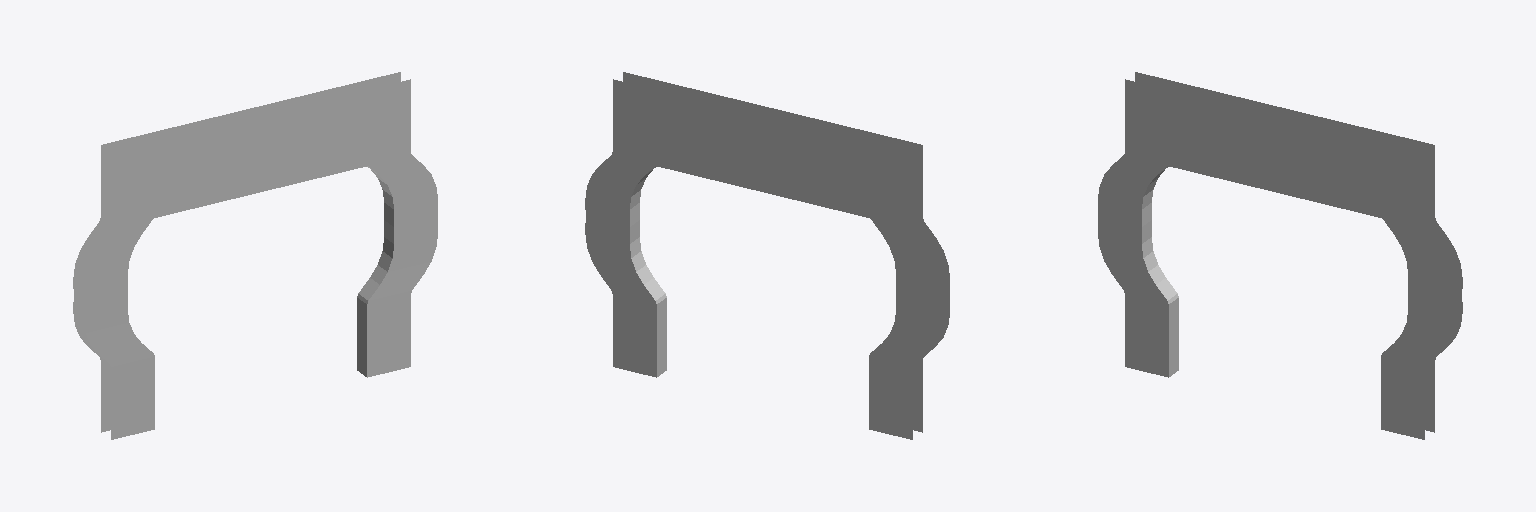
Rendered from separador_pasillos.obj.
3 views of the same model, side by side, from view 1: azimuth 30°, elevation 25°; view 2: azimuth 150°, elevation 25°; view 3: azimuth 330°, elevation 25° (orthographic).
Parts seen in each view (by area): view 1: textureEditorIsolateSelectSet connector_01 UVS, connector_01 UVS; view 2: connector_01 UVS, textureEditorIsolateSelectSet connector_01 UVS; view 3: textureEditorIsolateSelectSet connector_01 UVS, connector_01 UVS.
Part boxes in pixels (bbox=[...]): textureEditorIsolateSelectSet connector_01 UVS: bbox=[84, 79, 437, 439]; connector_01 UVS: bbox=[73, 72, 400, 432]; connector_01 UVS: bbox=[585, 79, 940, 439]; textureEditorIsolateSelectSet connector_01 UVS: bbox=[623, 72, 949, 432]; textureEditorIsolateSelectSet connector_01 UVS: bbox=[1098, 79, 1451, 439]; connector_01 UVS: bbox=[1135, 72, 1462, 432].
Size of the model in its own units: 6.69 by 5.18 by 0.3311.